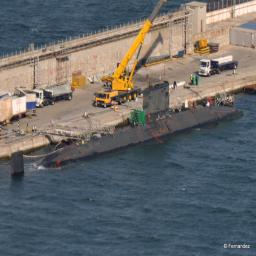submarine: (12, 81, 247, 177)
